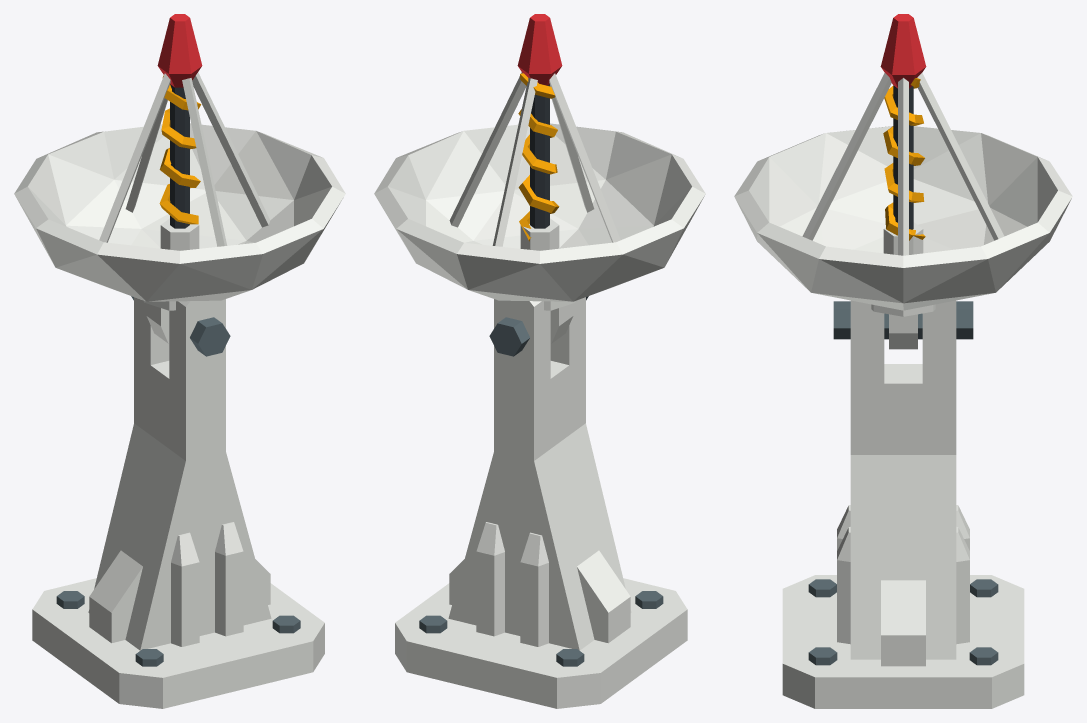
File: antennaB.FBX
3 renders of one model, left to right at view 1: azimuth 30°, elevation 25°; view 2: azimuth 150°, elevation 25°; view 3: azimuth 270°, elevation 25°, orthographic.
Parts seen in each view (by area): view 1: antennaB_body, antennaB_head; view 2: antennaB_body, antennaB_head; view 3: antennaB_body, antennaB_head.
Boxes of the visible parts, <box> form: antennaB_body: <box>32,297,324,708</box>; antennaB_head: <box>14,14,345,356</box>; antennaB_body: <box>395,297,687,708</box>; antennaB_head: <box>374,14,705,356</box>; antennaB_body: <box>782,300,1024,708</box>; antennaB_head: <box>734,14,1072,349</box>.
Size of the model in its own units: 16.35 by 34.13 by 16.35.
